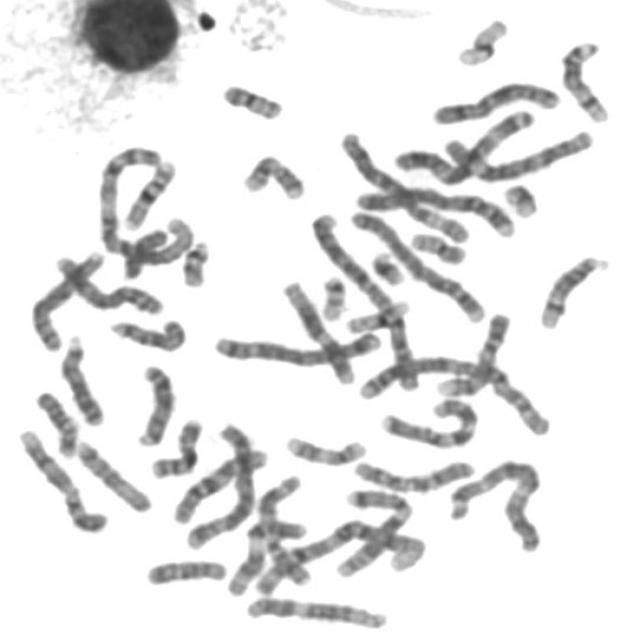A1: (246, 512, 428, 598), (91, 140, 199, 270)
A2: (305, 206, 424, 396), (352, 348, 557, 438)
A3: (390, 104, 540, 186), (444, 454, 548, 554)
B4: (345, 202, 490, 324), (351, 180, 518, 240)
B5: (180, 417, 264, 552), (208, 323, 387, 368)
C10: (168, 440, 270, 527), (347, 453, 480, 495)
C11: (221, 512, 312, 598), (252, 467, 316, 589)
C12: (276, 274, 359, 388), (240, 591, 391, 632)
C6: (333, 125, 477, 245), (440, 122, 598, 184)
C7: (332, 482, 418, 580), (375, 393, 483, 451)
C8: (26, 246, 109, 354), (51, 249, 168, 317)
C9: (13, 424, 111, 534), (431, 307, 516, 399)
D13: (56, 330, 110, 428), (131, 358, 178, 450)
D14: (535, 249, 614, 331), (555, 34, 615, 125)
D15: (71, 434, 155, 515), (105, 312, 189, 355)
E16: (118, 153, 181, 232), (145, 413, 207, 480)
E17: (238, 149, 310, 203), (281, 430, 371, 468)
E18: (29, 386, 82, 460), (142, 554, 230, 589)
F19: (452, 12, 512, 69), (342, 293, 414, 335)
F20: (217, 77, 287, 121), (405, 225, 470, 267)
G21: (498, 177, 543, 220), (365, 244, 408, 287)
G22: (178, 235, 214, 290), (315, 269, 351, 322)
X: (428, 75, 564, 126)
